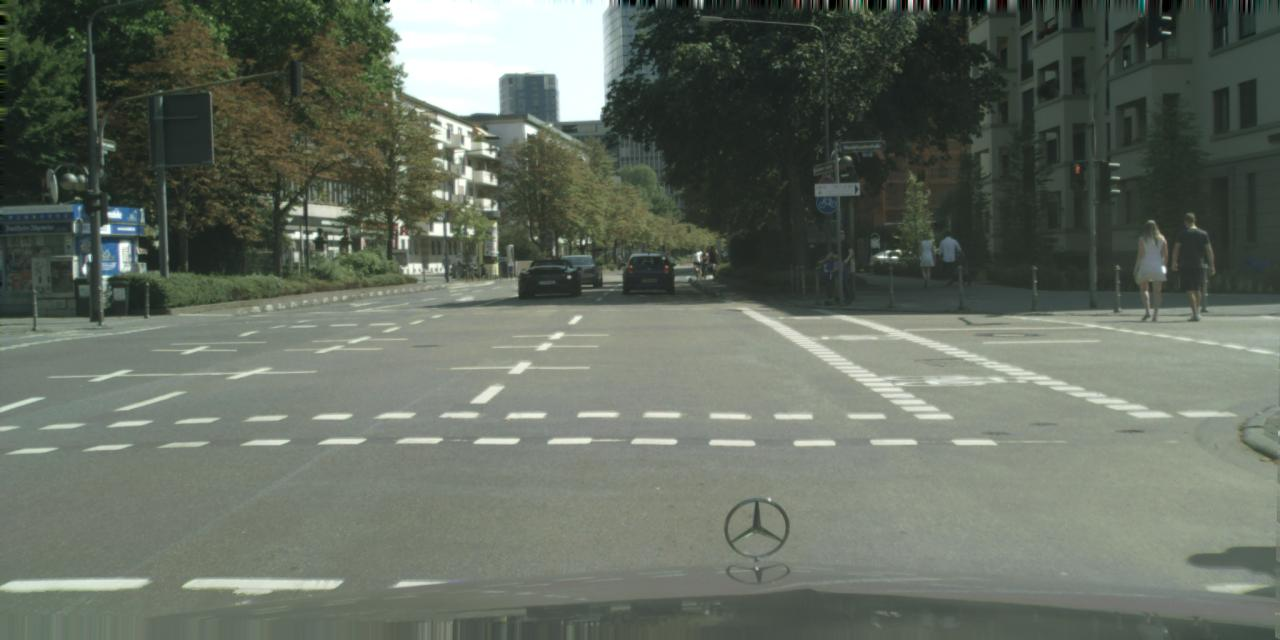ped: (1170, 212, 1214, 322), (1130, 218, 1170, 320), (827, 229, 857, 304), (914, 233, 937, 288), (937, 230, 959, 286), (827, 250, 848, 303), (440, 252, 452, 282), (690, 248, 700, 274), (708, 245, 718, 270), (452, 254, 462, 277), (699, 248, 708, 272), (616, 255, 621, 268)
